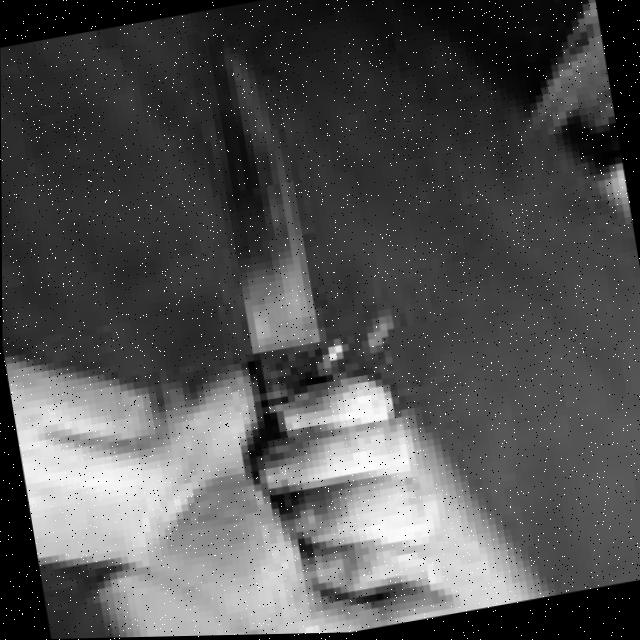knife: (194, 26, 340, 443)
